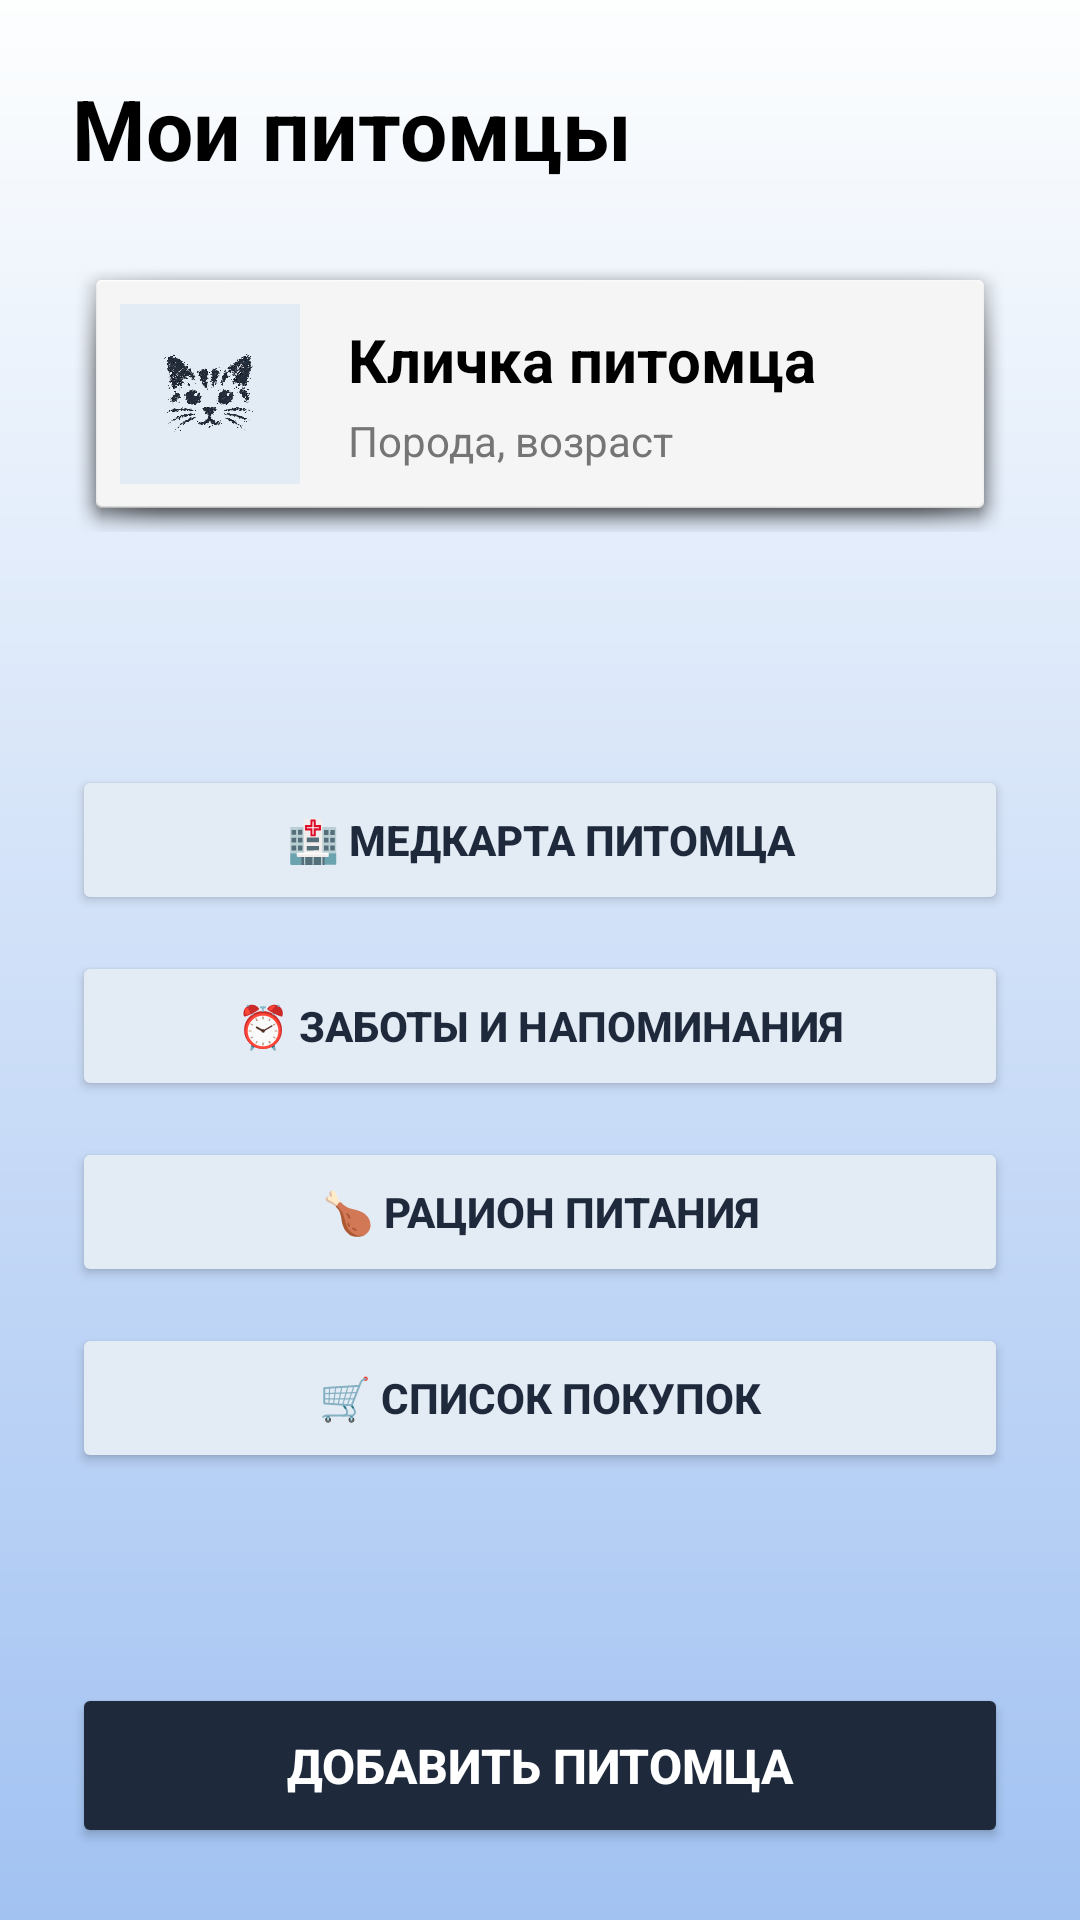

Icons on this 1080px x 1920px Android screen, each with the point to tap as (x,y):
koshak: (210,394)
